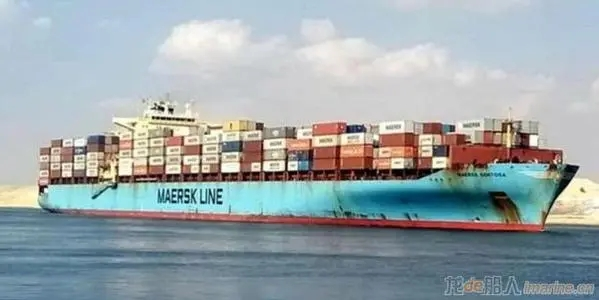Cargoship: (28, 94, 589, 229)
